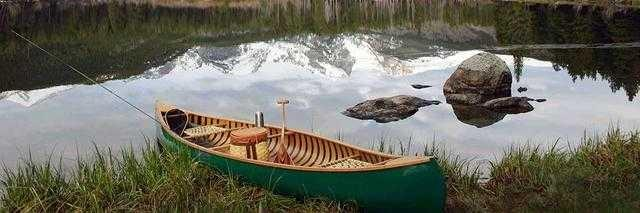kayak: (156, 101, 447, 211)
